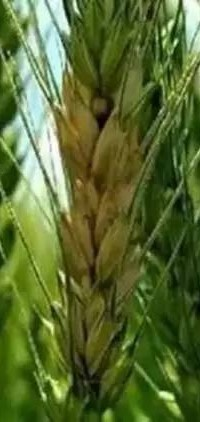Wheat scab: (35, 3, 156, 391)
